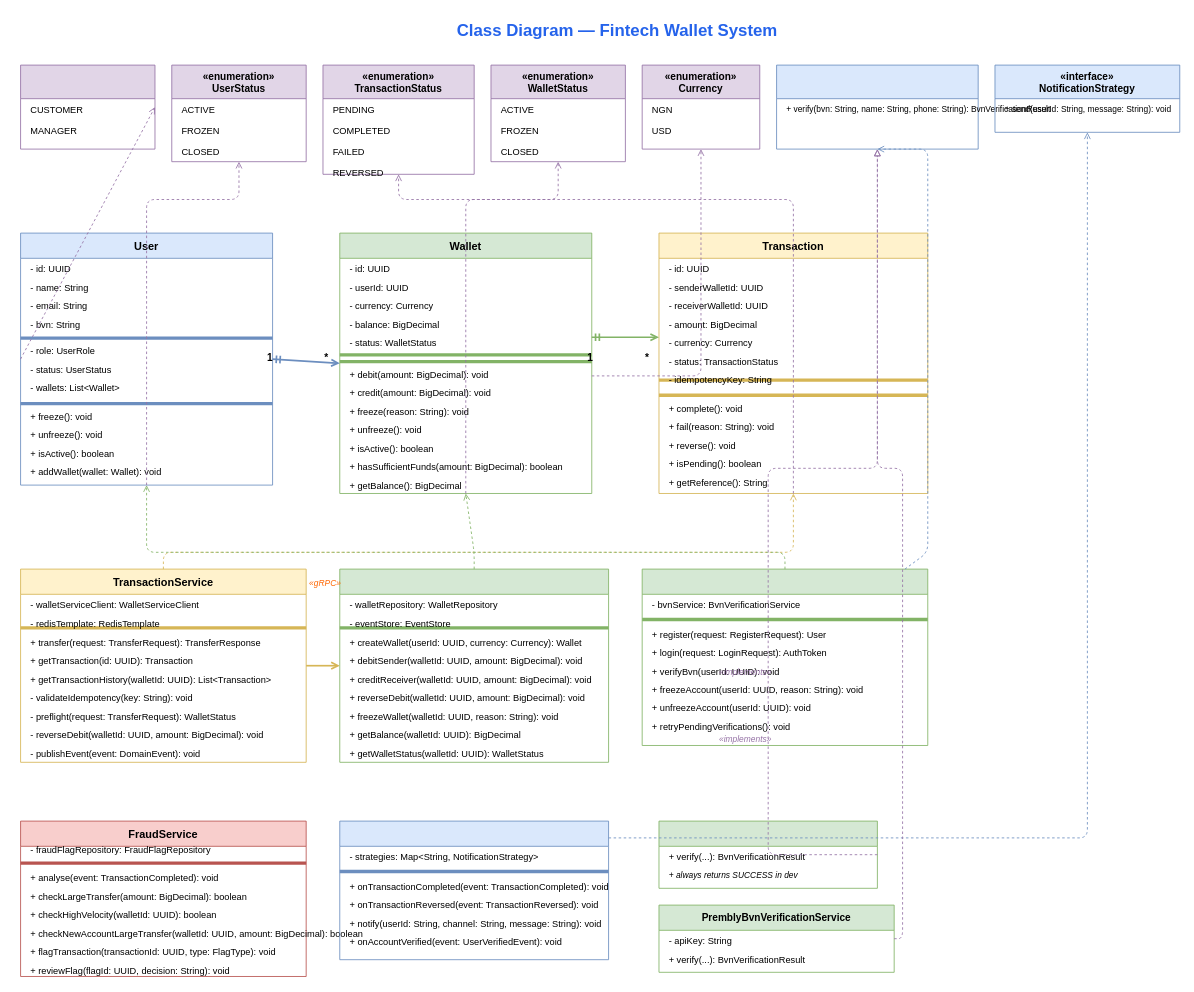
The diagram is 1194 pixels wide and 992 high, and some of its shapes have lost their labels. The shapes that lost their labels are listed below. From the top down, each one's box as (x1, y1, x2, y2) in pixels, then its label:
(20, 64, 155, 149): «enumeration» UserRole
(776, 64, 978, 149): «interface» BvnVerificationService
(339, 568, 609, 762): WalletService
(641, 568, 928, 746): UserService
(658, 820, 877, 888): MockBvnVerificationService
(339, 820, 609, 960): NotificationService
